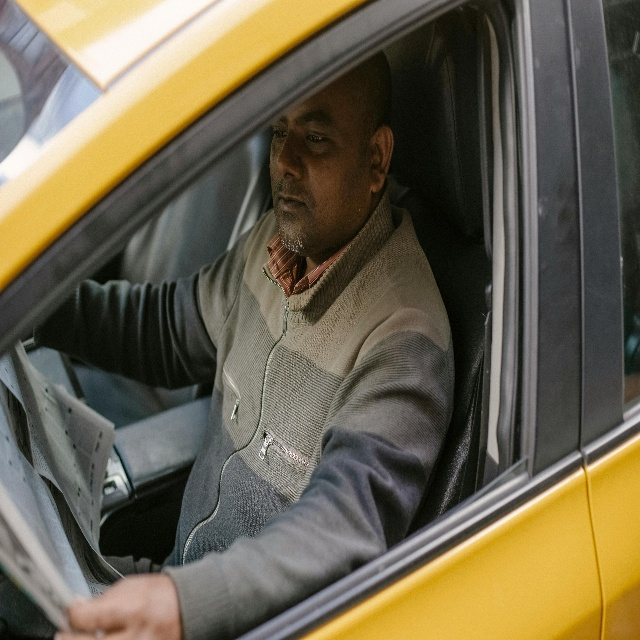Sin_guantes: (53, 572, 183, 640)
